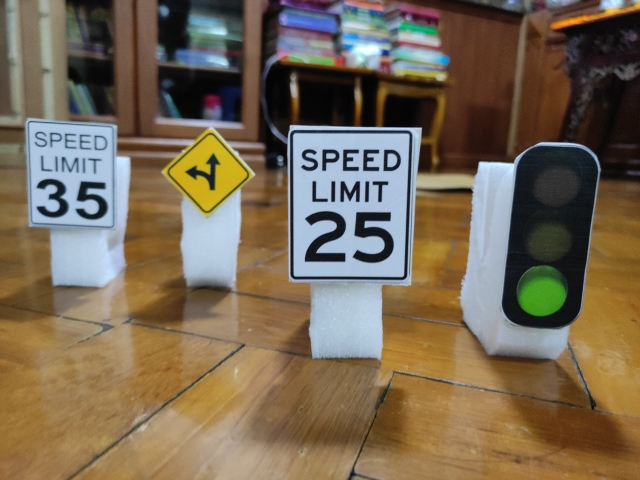Green Traffic Light: (501, 144, 601, 329)
Speed Limit 25: (288, 128, 414, 284)
Speed Limit 35: (25, 118, 117, 231)
Straight Or Left Sign: (165, 131, 251, 215)
